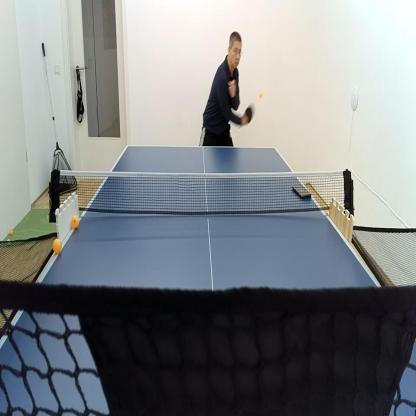Ball: (53, 238, 62, 254), (71, 216, 79, 229), (9, 229, 14, 234), (259, 92, 262, 99), (7, 238, 11, 243)
